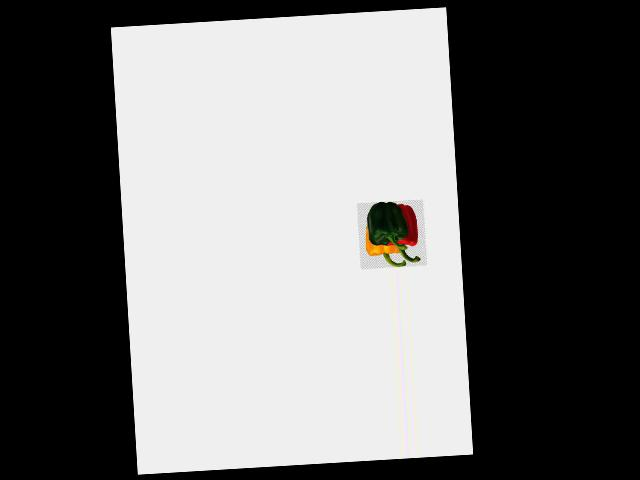bell_pepper: (385, 201, 427, 265)
